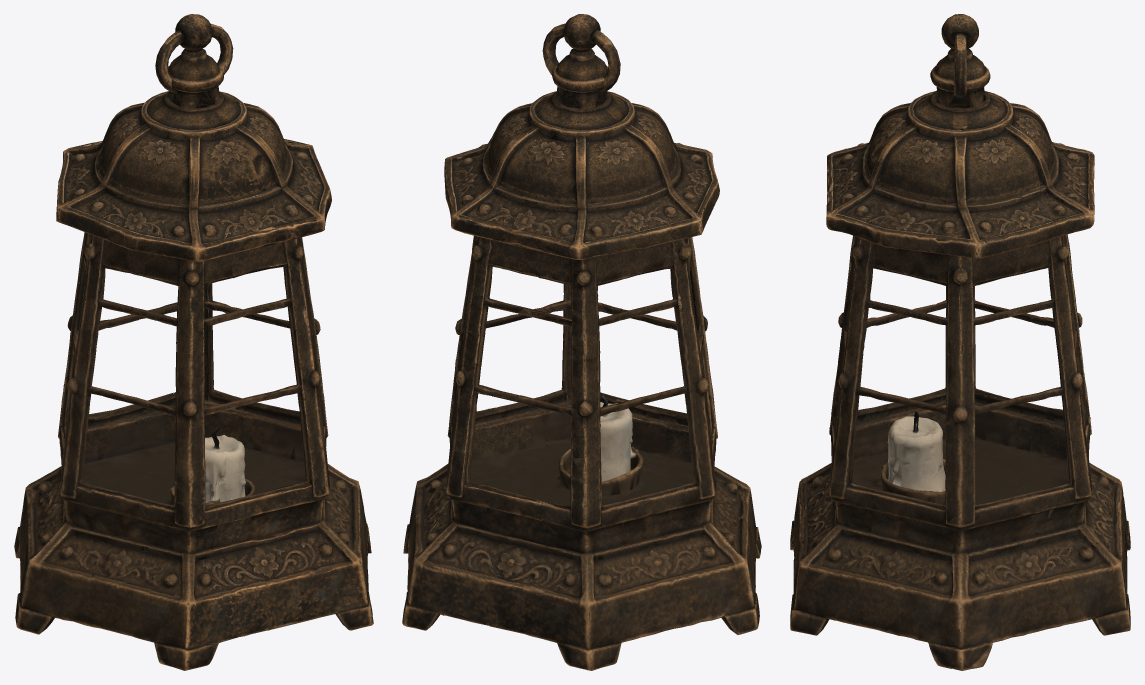
File: cleaned.glb
3 views of the same model, side by side, from view 1: azimuth 30°, elevation 25°; view 2: azimuth 150°, elevation 25°; view 3: azimuth 270°, elevation 25° (orthographic).
Visible parts, largest first — view 1: table lantern bronze body; view 2: table lantern bronze body; view 3: table lantern bronze body.
Part boxes in pixels (x1,y1,x2,y2): table lantern bronze body: (14, 14, 373, 670); table lantern bronze body: (402, 14, 761, 670); table lantern bronze body: (790, 14, 1130, 670).
Bounding box in the file's own units: 0.645 × 1 × 0.5416.
1 material, 1 textured.
